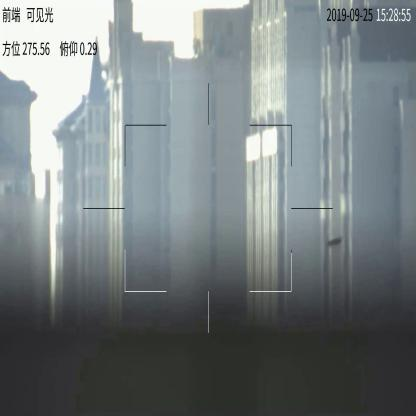uav: (326, 236, 342, 247)
